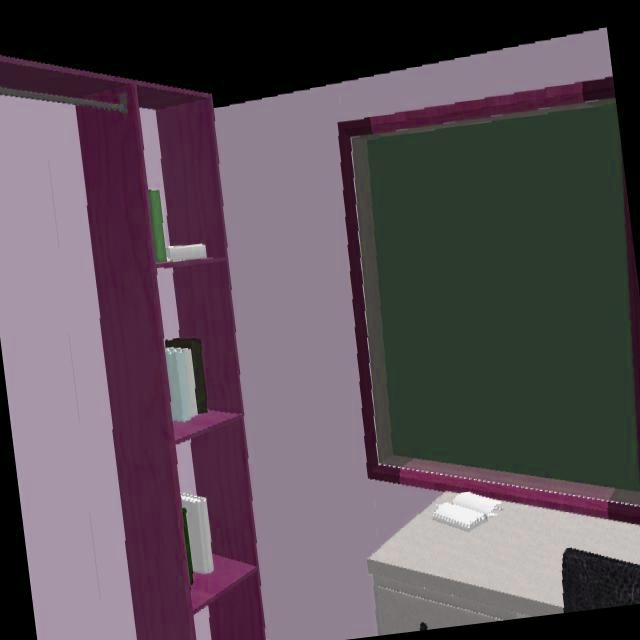book: (149, 190, 206, 265), (165, 340, 207, 423), (433, 493, 500, 532), (182, 495, 212, 574)
bookshelf: (0, 56, 267, 640)
chair: (562, 549, 640, 613)
table: (368, 496, 640, 635)
